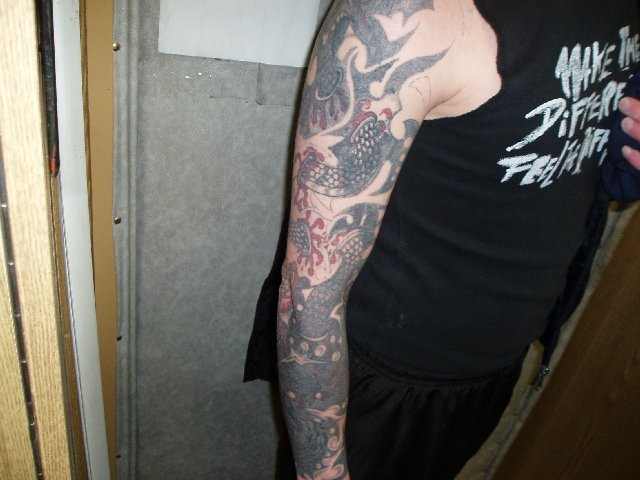tatu7_zmeya: (273, 1, 425, 480)
